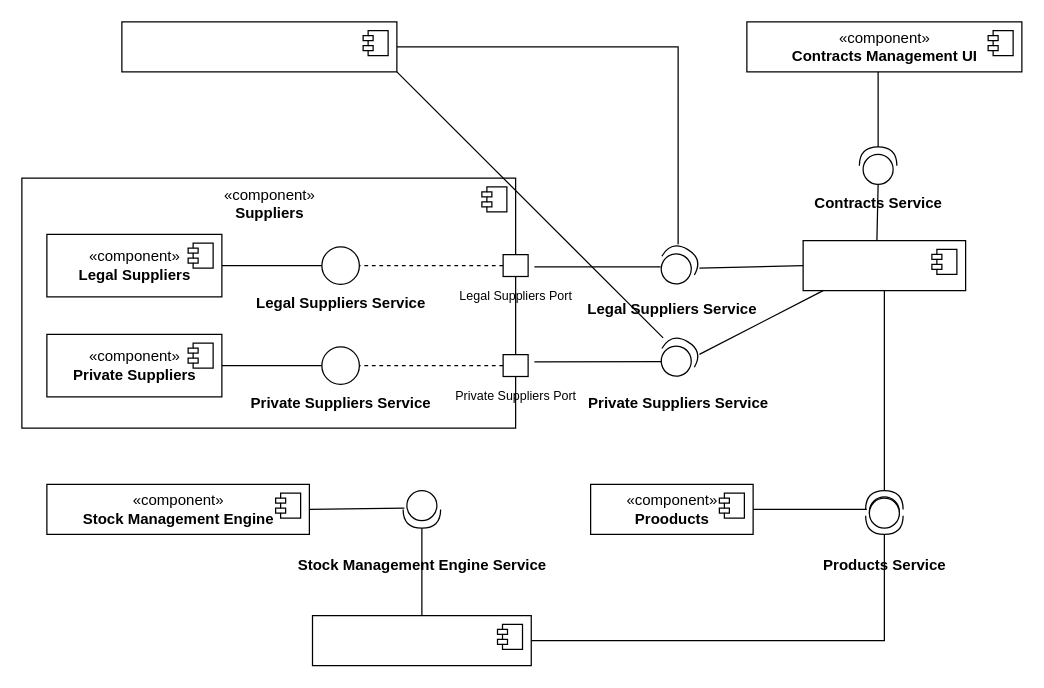
Image size: 1044x688. Some labels were removed from this diagram. The centre of each missing label's shape, as x and y in pixels:
"«component» Contracts" belongs at (x=884, y=265).
"«component» Stock Management UI" belongs at (x=421, y=640).
"«component» Suppliers Management UI" belongs at (x=259, y=46).
